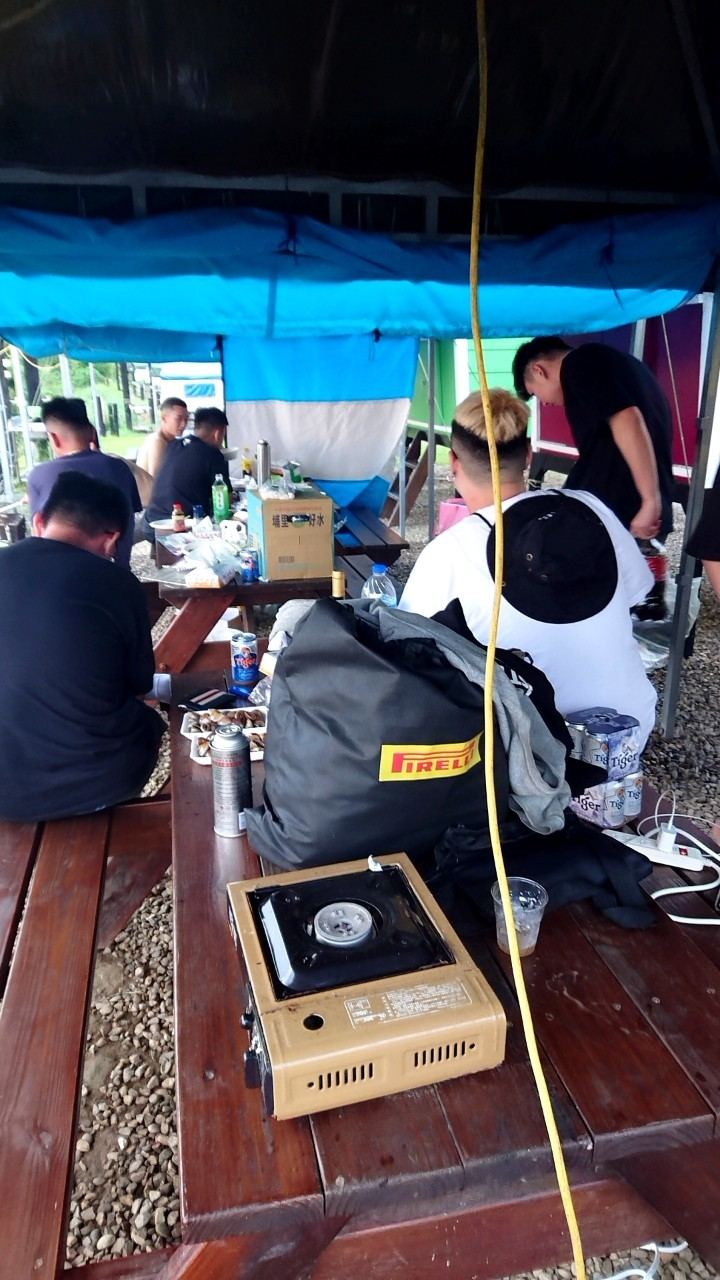people: (414, 392, 648, 774), (10, 474, 142, 810), (512, 333, 671, 516), (22, 394, 142, 523), (179, 410, 228, 519), (150, 392, 185, 506)
